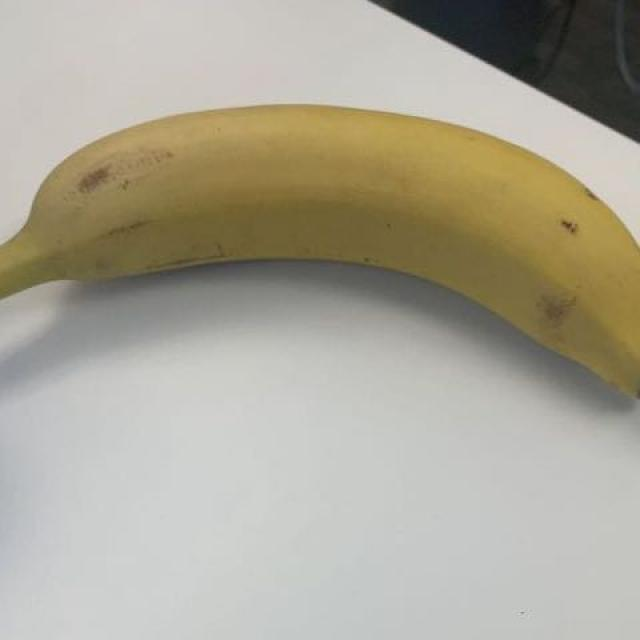Banana: (0, 83, 640, 420)
